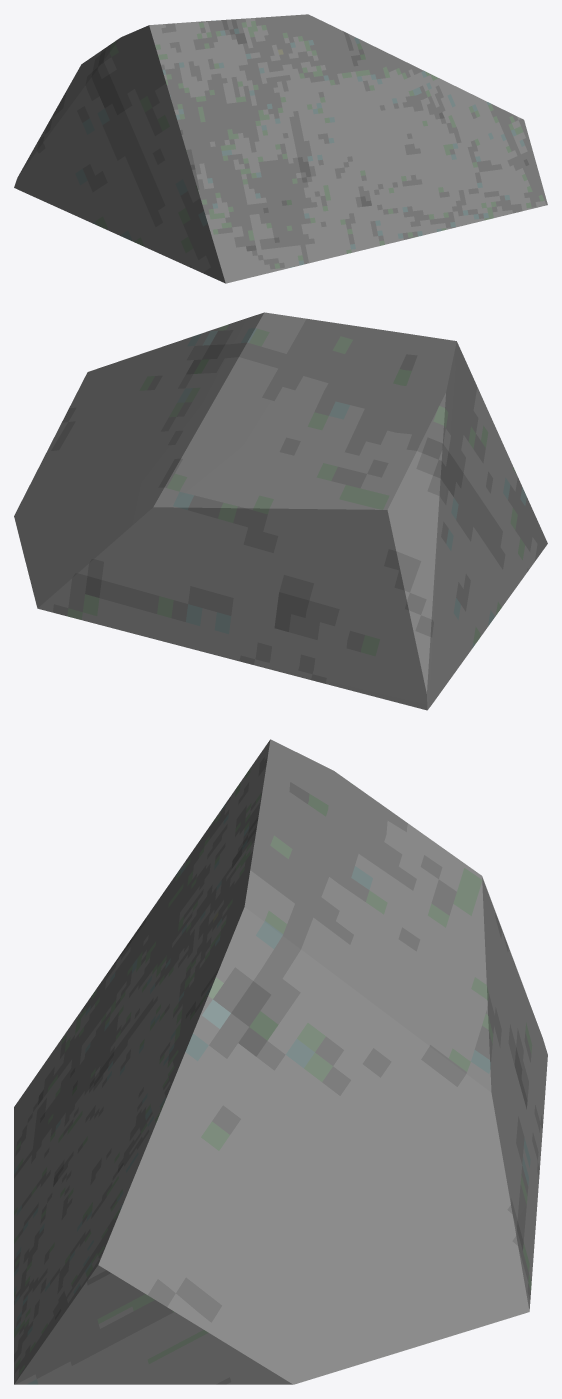
The model's file is barriar_cell_007.glb.
3 views of the same model, one above another, from view 1: azimuth 30°, elevation 25°; view 2: azimuth 150°, elevation 25°; view 3: azimuth 270°, elevation 25° (orthographic). The views are drawn at different scales.
Parts seen in each view (by area): view 1: Barriar_cell.007; view 2: Barriar_cell.007; view 3: Barriar_cell.007.
Part boxes in pixels (x1=…): Barriar_cell.007: x1=14, y1=14, x2=547, y2=283; Barriar_cell.007: x1=14, y1=312, x2=547, y2=710; Barriar_cell.007: x1=14, y1=739, x2=547, y2=1384.
Size of the model in its own units: 0.9308 by 0.4795 by 0.6367.
1 material, 1 textured.
